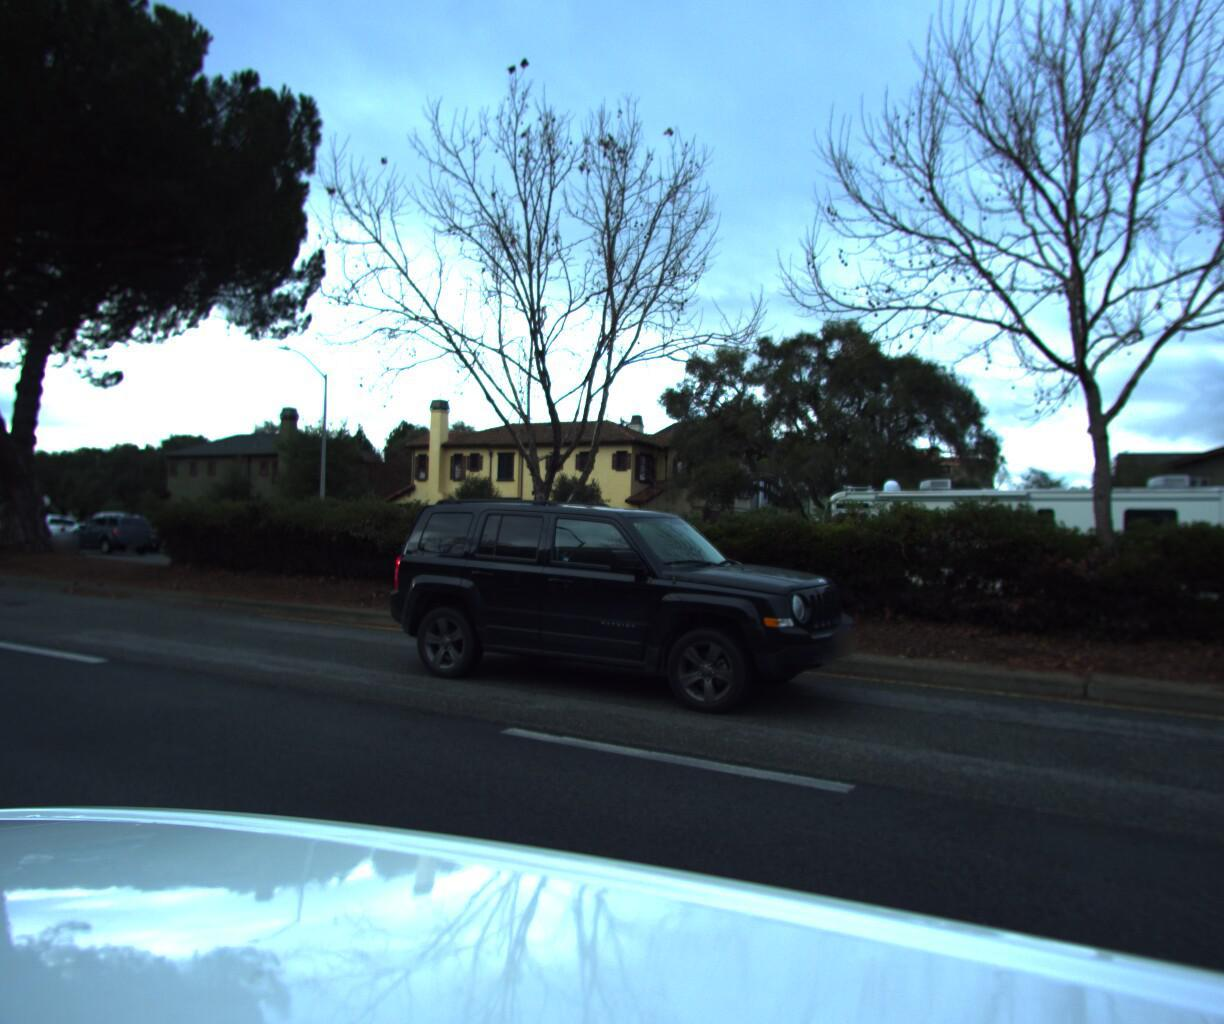car: (367, 486, 872, 729), (64, 504, 176, 553), (59, 509, 156, 554), (3, 508, 96, 546), (0, 513, 18, 540)
other_vehicle: (789, 460, 1224, 626)
